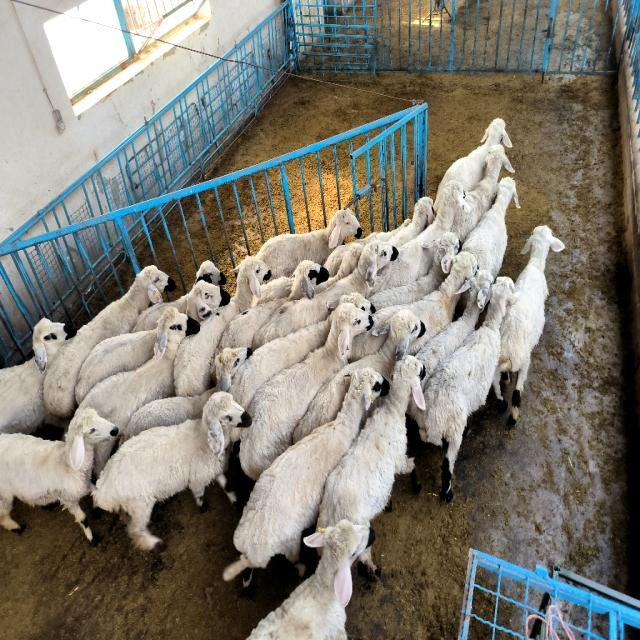sheep: (224, 367, 389, 580), (92, 392, 251, 550), (415, 277, 518, 501), (240, 303, 369, 479), (318, 355, 425, 528), (292, 310, 425, 442), (254, 242, 396, 346), (249, 520, 371, 640), (492, 225, 565, 424), (174, 257, 270, 396), (370, 180, 469, 295), (216, 260, 329, 352), (230, 314, 332, 407), (416, 270, 494, 388), (405, 253, 478, 354), (256, 208, 361, 278), (434, 118, 512, 209), (369, 232, 460, 310), (451, 145, 514, 243), (461, 177, 520, 278), (335, 293, 371, 312), (395, 218, 411, 232)
